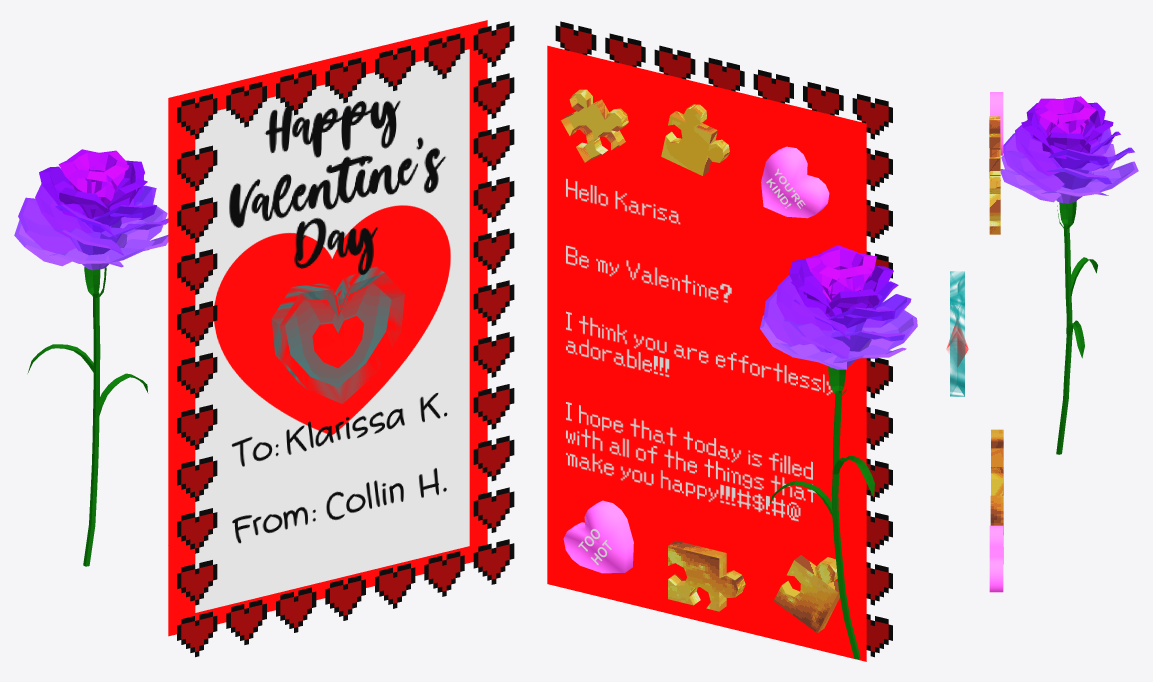
File: KKVDC.glb
3 views of the same model, side by side, from view 1: azimuth 30°, elevation 25°; view 2: azimuth 150°, elevation 25°; view 3: azimuth 270°, elevation 25° (orthographic). The views are drawn at different scales.
Visible parts, largest first — view 1: card, carnation; view 2: card, carnation, jiggies, Plane.001, Plane; view 3: carnation, jiggies, card, Plane.001, Plane.
Part boxes in pixels (x1,y1,x2,y2): card: (168,20,514,657); carnation: (14,149,168,566); card: (547,21,892,661); carnation: (760,245,917,658); jiggies: (561,89,839,633); Plane.001: (563,500,633,573); Plane: (761,146,829,218); carnation: (1000,96,1138,454); jiggies: (989,116,1003,564); card: (946,271,968,396); Plane.001: (989,525,1003,592); Plane: (990,92,1003,155).
Size of the model in its own units: 1.74 by 2.22 by 0.7695.
21 materials, 13 textured.
